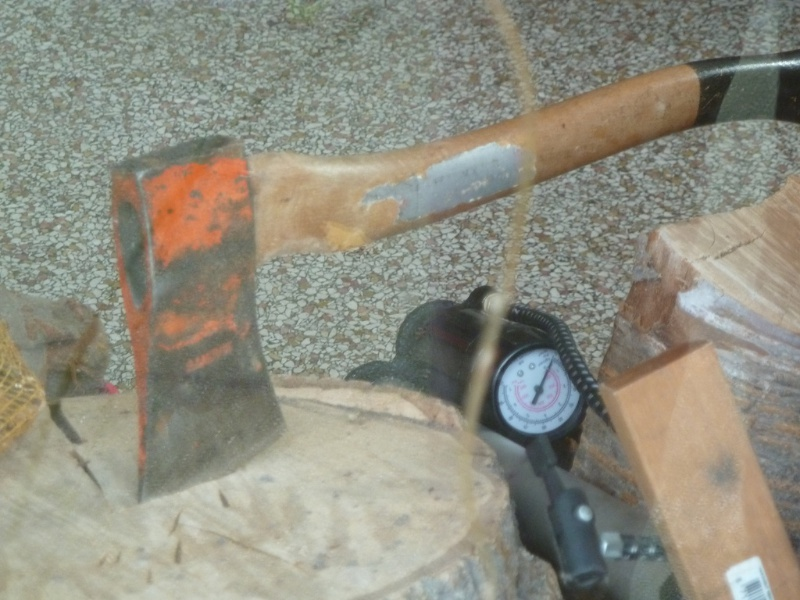axe: (102, 59, 800, 505)
